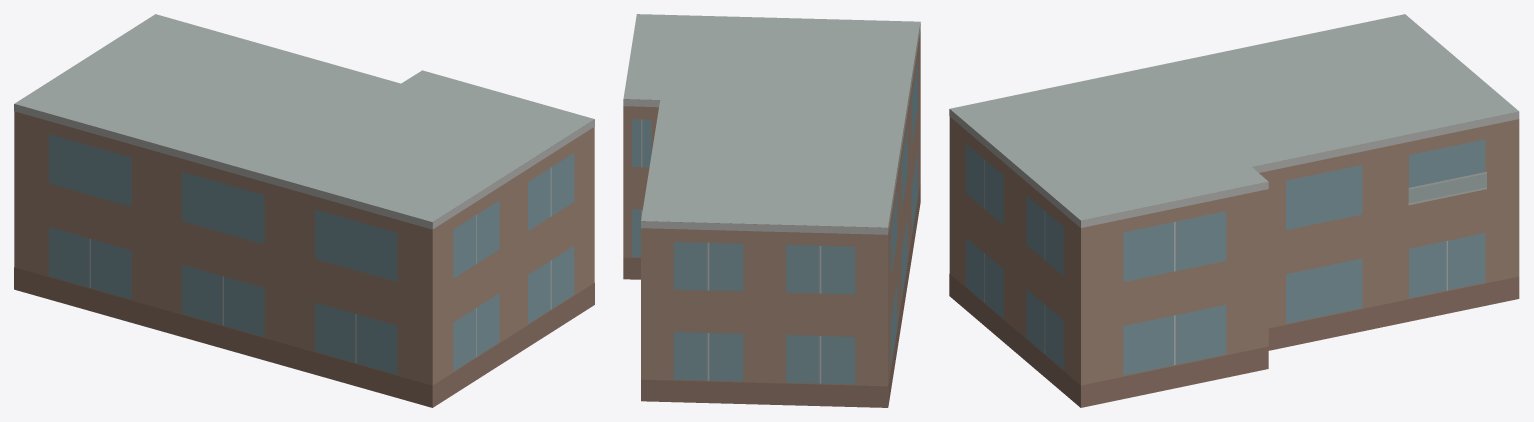
The model's file is survey-upis-32748807.glb.
3 views of the same model, side by side, from view 1: azimuth 30°, elevation 25°; view 2: azimuth 150°, elevation 25°; view 3: azimuth 270°, elevation 25° (orthographic). The views are drawn at different scales.
Visible parts, largest first — view 1: survey-upis-32748807.tmp; view 2: survey-upis-32748807.tmp; view 3: survey-upis-32748807.tmp.
Boxes of the visible parts, x1,y1,x2,y2 form: survey-upis-32748807.tmp: [14, 14, 594, 407]; survey-upis-32748807.tmp: [623, 14, 920, 407]; survey-upis-32748807.tmp: [949, 14, 1519, 407].
Size of the model in its own units: 14.44 by 6.1 by 16.83.
